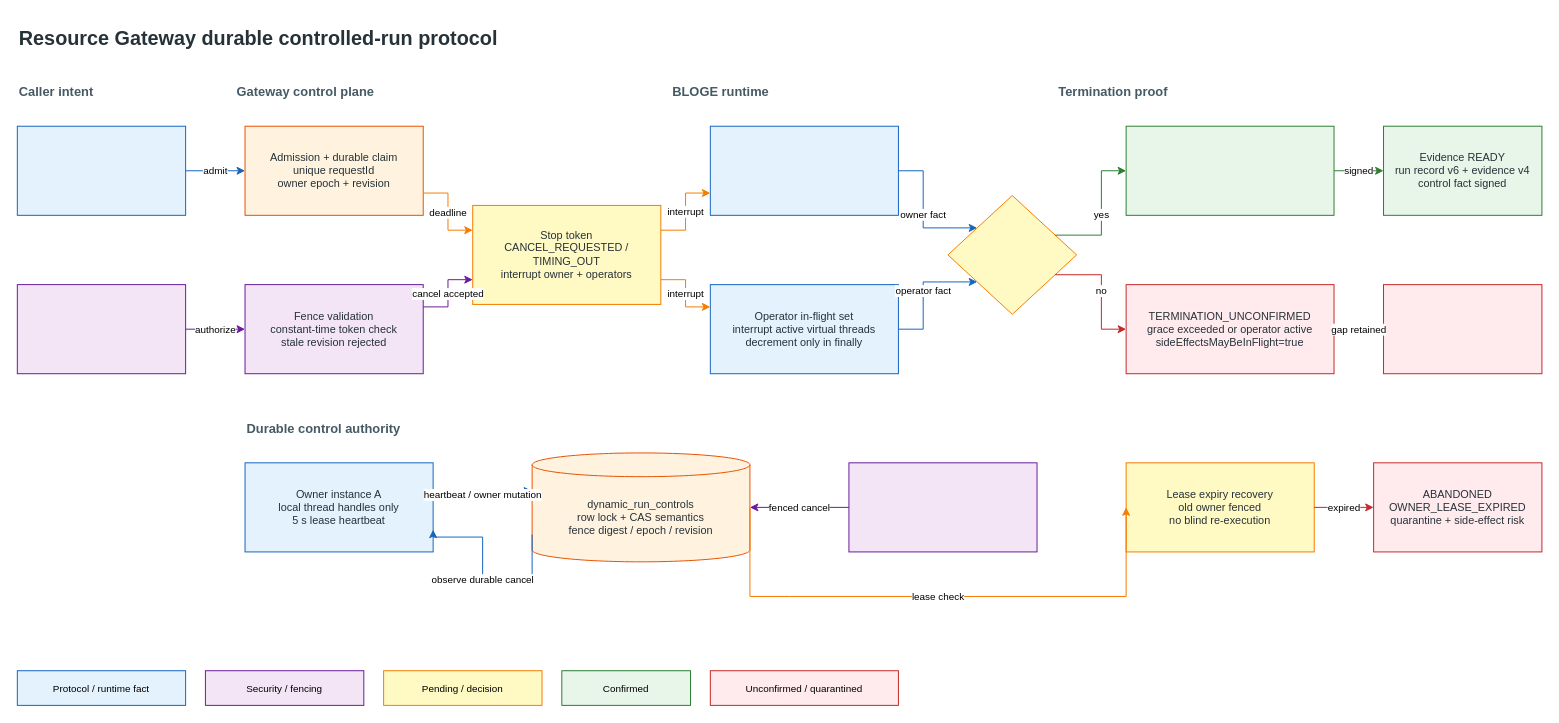
The diagram is 1559 pixels wide and 723 high, and some of its shapes have lost their labels. The shapes that lost their labels are listed below. From the top down, each one's centre as x and y in pixels, then its label:
At (101,170): "RunIntent v1 requestId + absolute deadline fencingToken + grace".
At (803,170): "Scheduler owner accept no new work after token ownerExited observed".
At (1229,170): "Confirmed terminal CANCELLED / TIMED_OUT sideEffectsMayBeInFlight=false".
At (1012,254): "owner exited AND in-flight = 0?".
At (101,329): "Cancel command fence + expectedRevision audit reason".
At (1462,329): "Evidence QUARANTINED unknown commit risk retained publish gate must block".
At (942,507): "Control instance B GET / cancel API no owner thread required".
